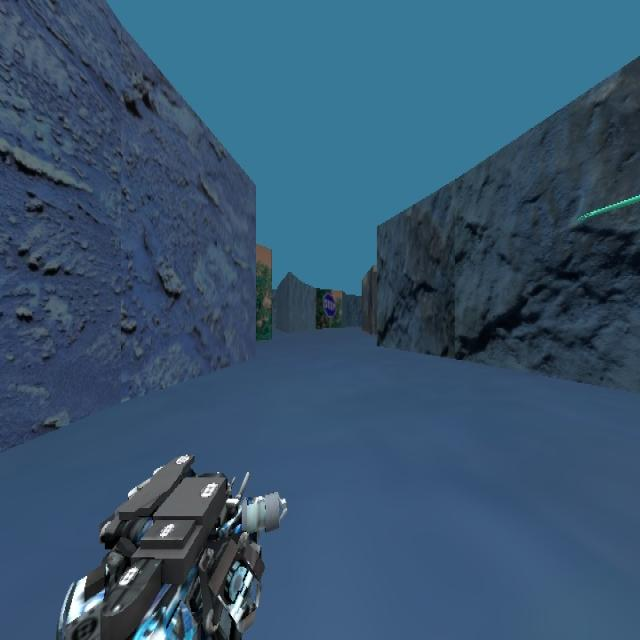Diamon: (575, 192, 639, 224)
Stop_Sign: (317, 286, 343, 326), (322, 292, 336, 317)
